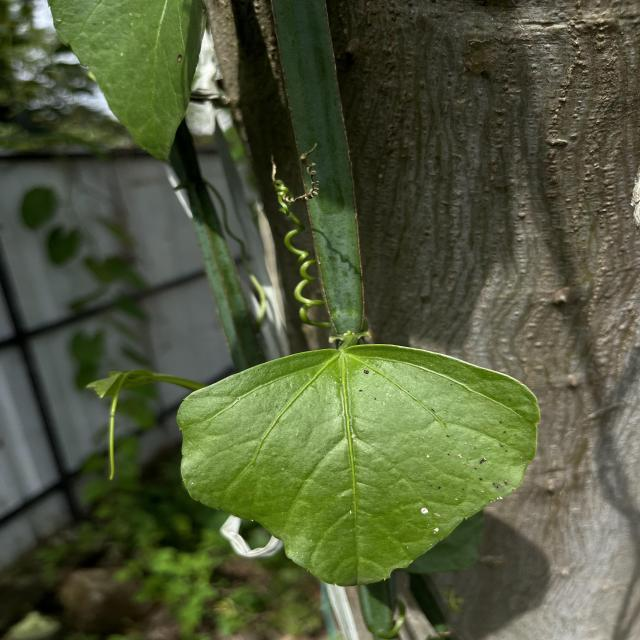Cissus quadrangularis: (170, 341, 544, 588)
